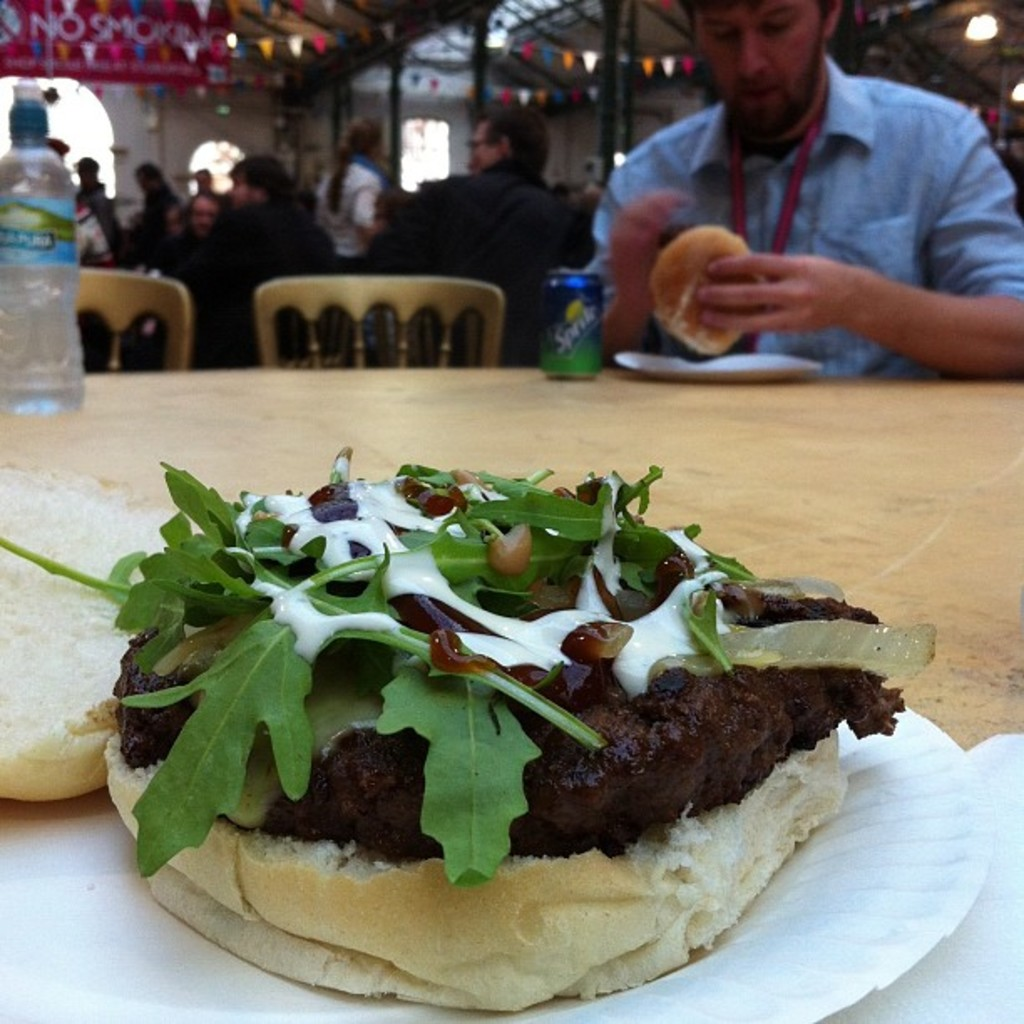Hamburger: (0, 450, 938, 1012), (652, 220, 759, 353)
